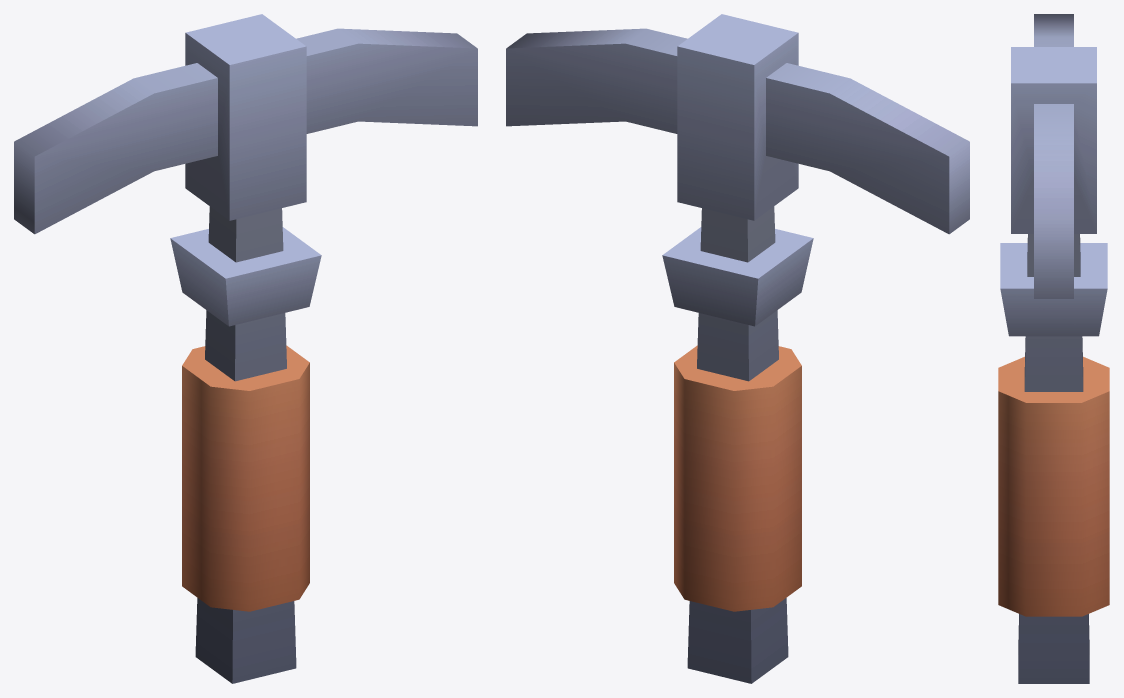
File: tool-pickaxe-upgraded.glb
3 renders of one model, left to right at view 1: azimuth 30°, elevation 25°; view 2: azimuth 150°, elevation 25°; view 3: azimuth 270°, elevation 25°, orthographic. The views are drawn at different scales.
Parts seen in each view (by area): view 1: tool-pickaxe-upgraded; view 2: tool-pickaxe-upgraded; view 3: tool-pickaxe-upgraded.
Part boxes in pixels (x1,y1,x2,y2): tool-pickaxe-upgraded: [14, 14, 477, 683]; tool-pickaxe-upgraded: [506, 14, 969, 683]; tool-pickaxe-upgraded: [998, 14, 1109, 683].
Bounding box in the file's own units: 0.1786 × 0.24 × 0.04.
1 material, 1 textured.
